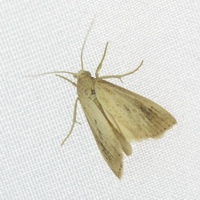insect: (29, 19, 175, 178)
